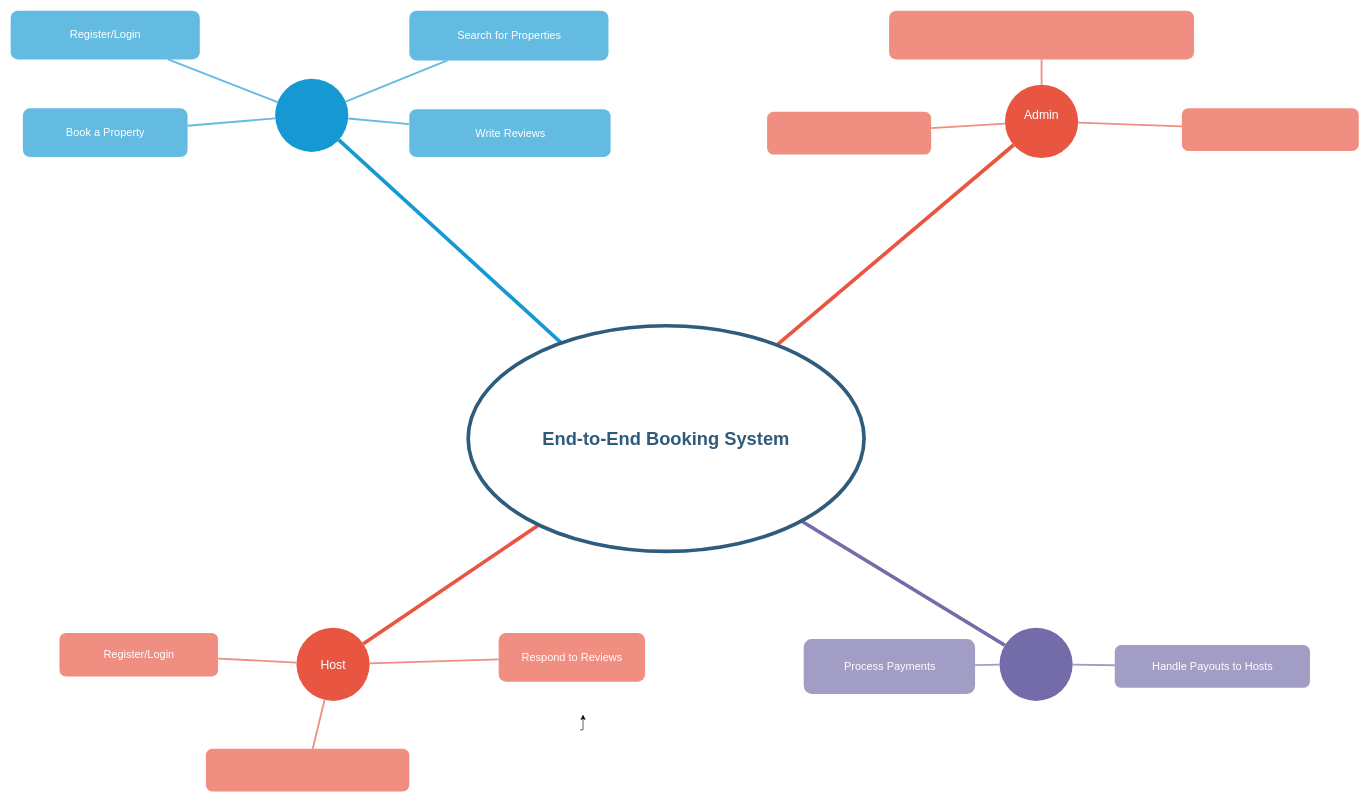
Image size: 1369x802. Some labels were removed from this diagram. Here are the shapes that lost their labels. From the top down, the centre of each, then its label:
(1041,34): Monitor Listings
(311,115): Guest
(849,133): Stork
(1270,129): Oversee Payments
(1035,664): Payment Gateway
(307,769): Add/Edit/Delete Listings
